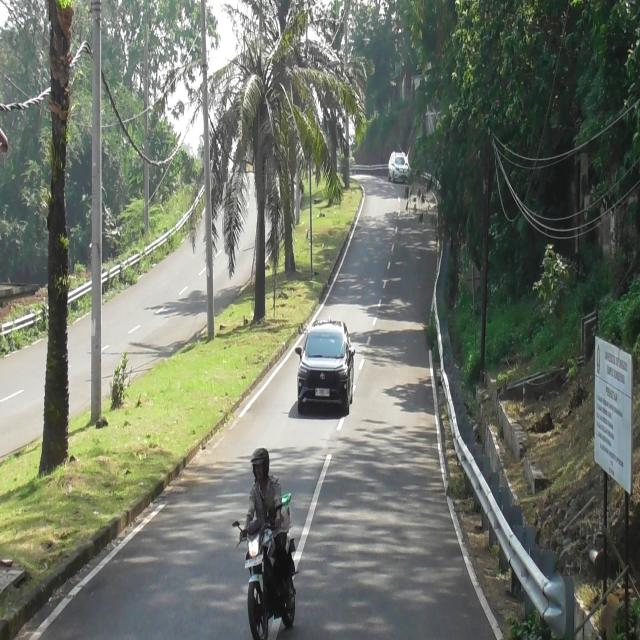motorcycle: (240, 514, 297, 639)
person: (243, 448, 295, 594)
rider_region: (240, 443, 296, 640)
